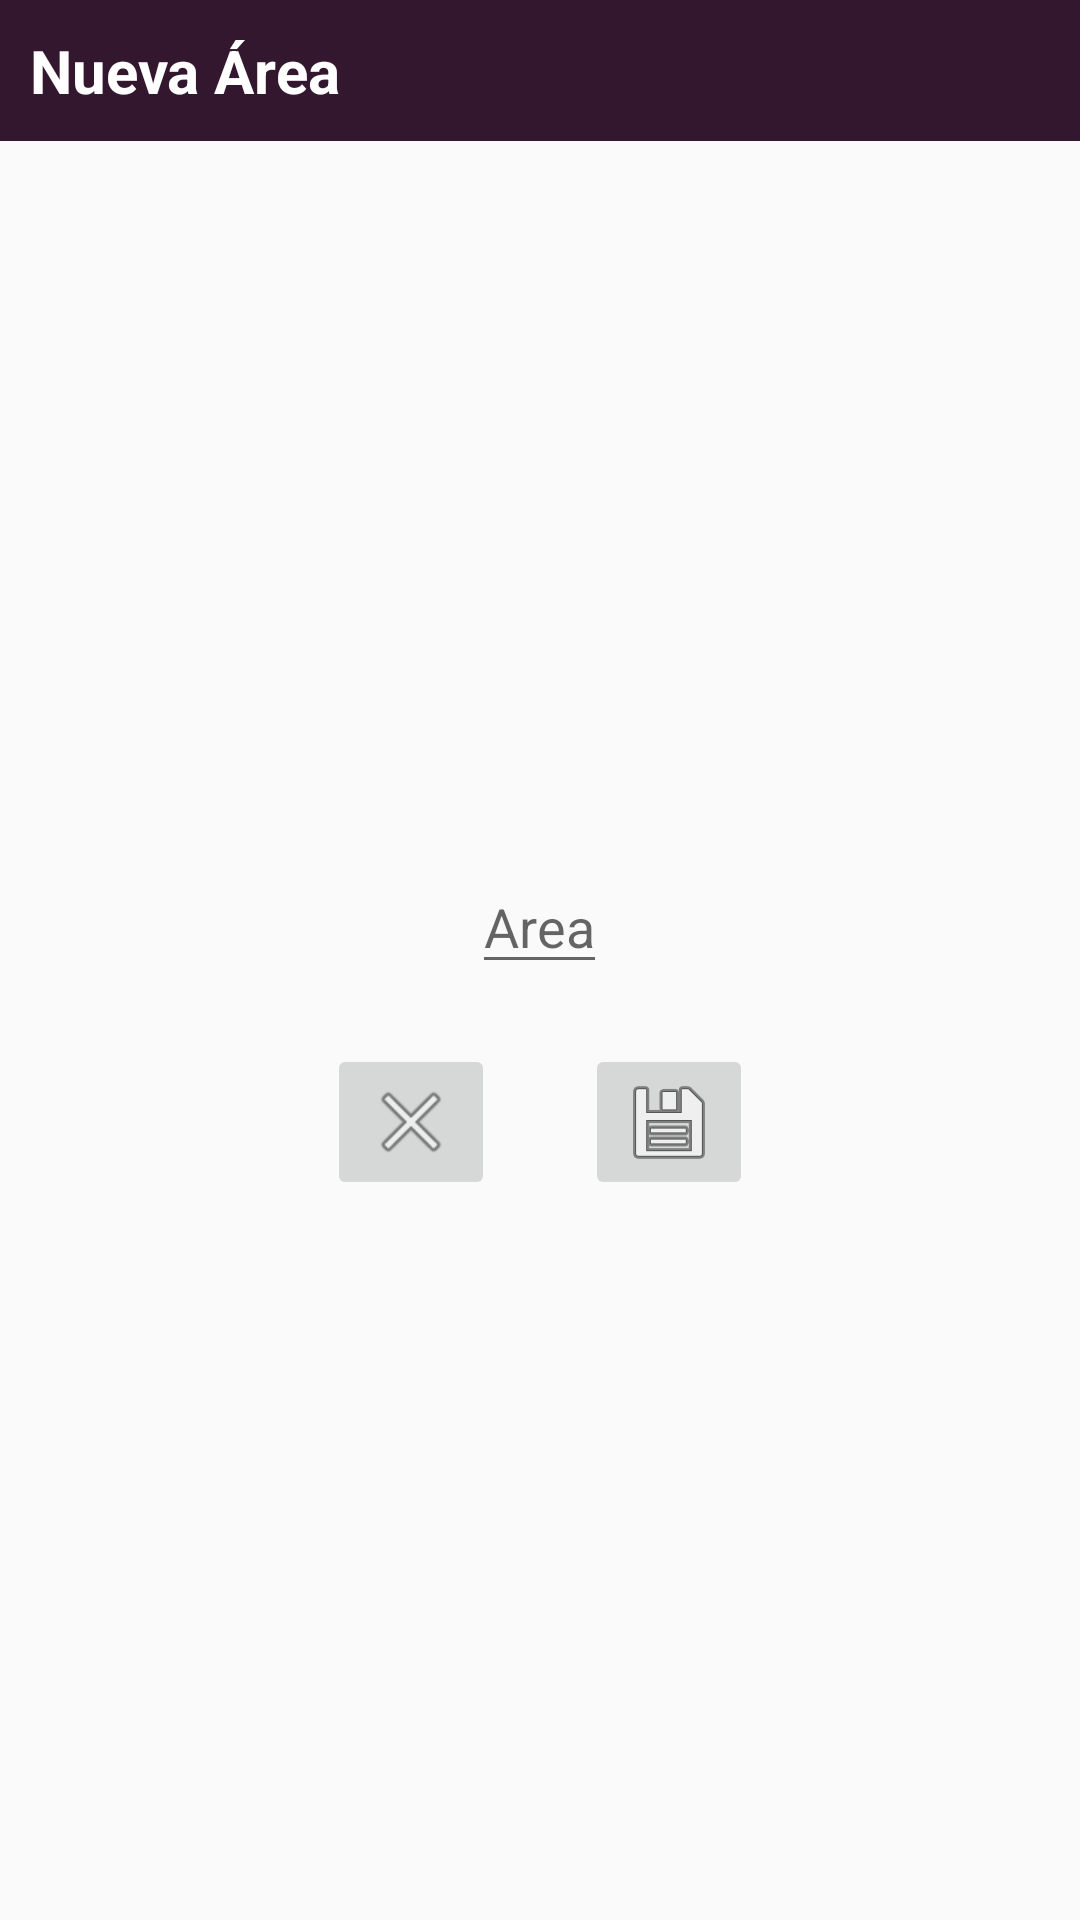

Icons on this 1080 x 1920 Android screen, each with its box as (x1, y1, x2, y2):
close clear cancel: (339, 1062, 483, 1182)
save: (597, 1062, 741, 1182)
